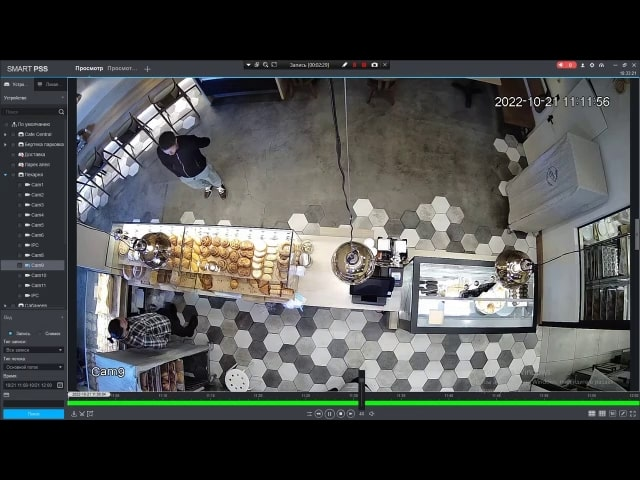barcounter: (102, 225, 542, 322)
person: (150, 125, 240, 204), (94, 303, 220, 349)
